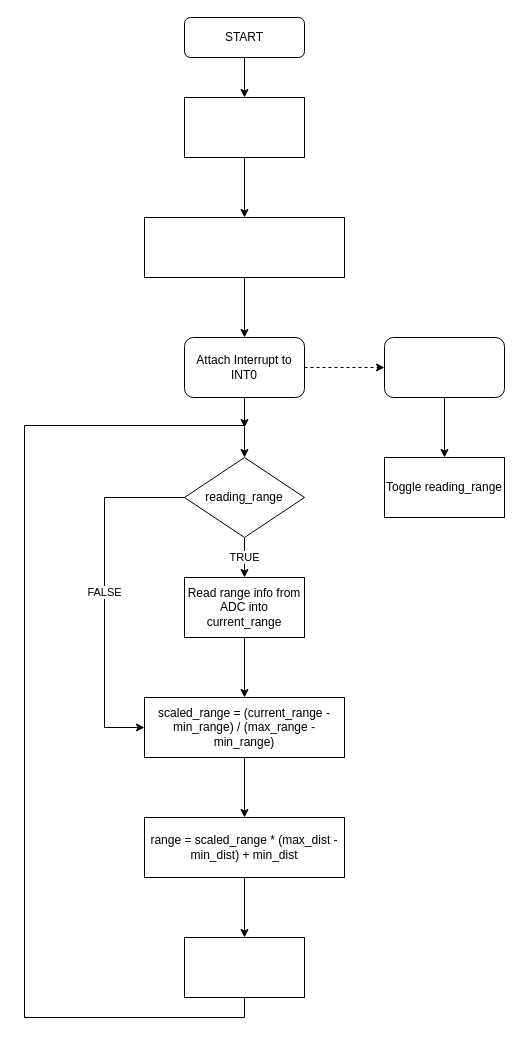
Image size: 522x1043. Some labels were removed from this diagram. The centre of each missing label's shape, as x and y in pixels:
"Display range on LCD" belongs at point (244, 967).
"Initialise ADC Initialise LCD" belongs at point (244, 247).
"INT0 Interrupt Triggered" belongs at point (444, 367).
"Set reading_range to true" belongs at point (244, 127).
